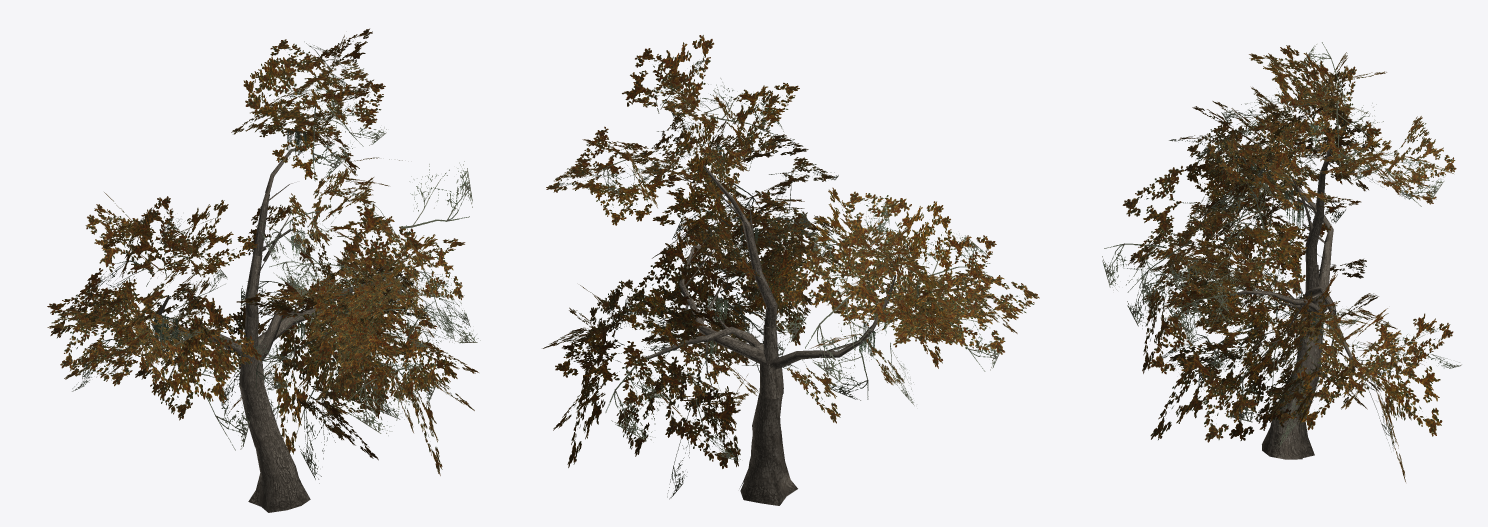
The model's file is btree_gothic_twisted_autumn.glb.
3 renders of one model, left to right at view 1: azimuth 30°, elevation 25°; view 2: azimuth 150°, elevation 25°; view 3: azimuth 270°, elevation 25°, orthographic. The views are drawn at different scales.
Parts seen in each view (by area): view 1: btree_gothic_twisted_autumn_LOD0; view 2: btree_gothic_twisted_autumn_LOD0; view 3: btree_gothic_twisted_autumn_LOD0.
Boxes of the visible parts, box(x1,y1,x2,y2) form: btree_gothic_twisted_autumn_LOD0: box(47, 28, 480, 512); btree_gothic_twisted_autumn_LOD0: box(542, 35, 1039, 505); btree_gothic_twisted_autumn_LOD0: box(1102, 42, 1461, 481).
Bounding box in the file's own units: 11.08 × 10.47 × 7.85.
Materials: 1 (1 with a texture image).
